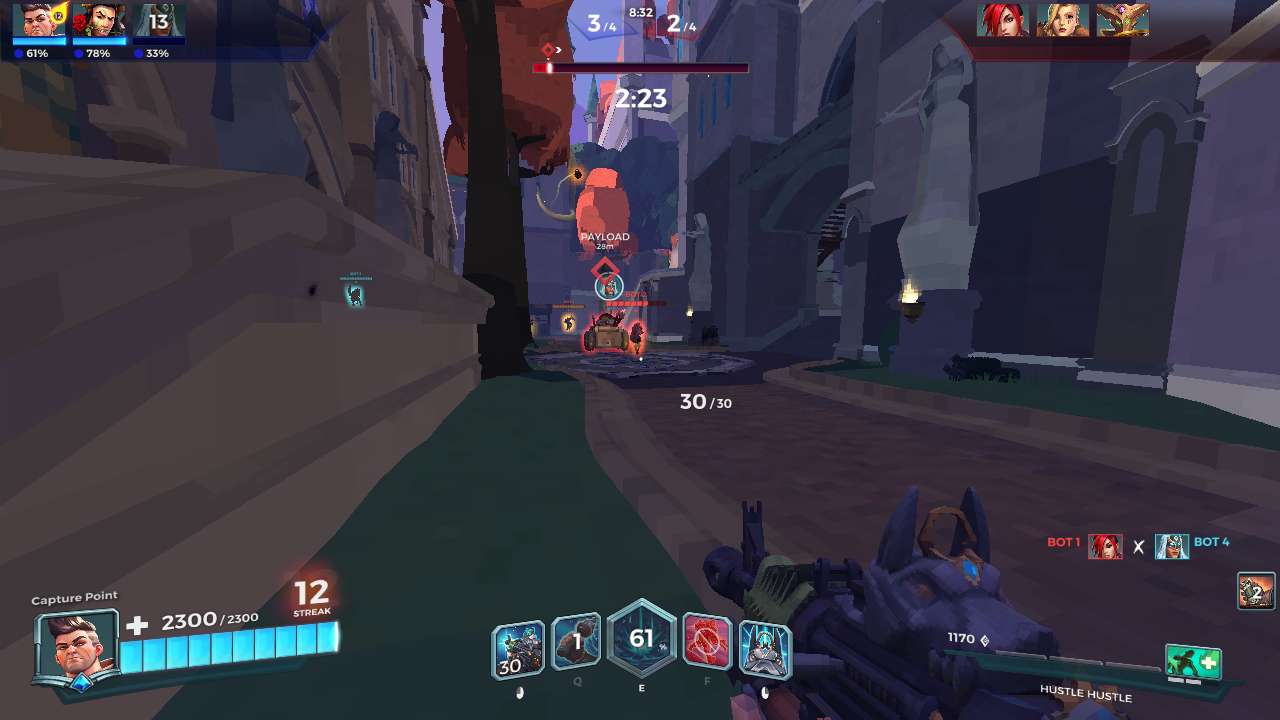model: (629, 319, 648, 354), (560, 314, 575, 331)
